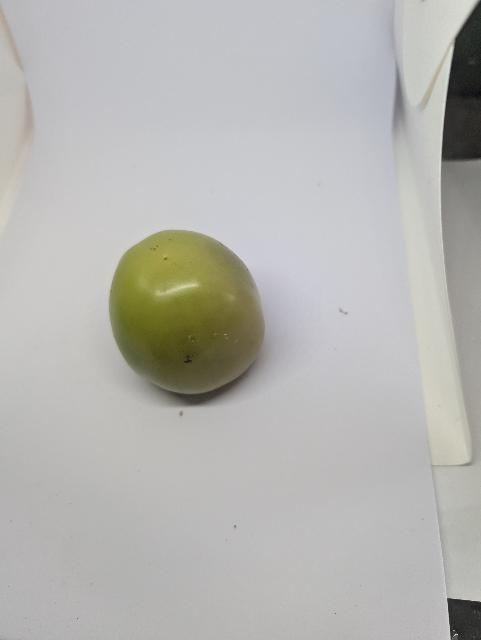green: (100, 217, 276, 404)
